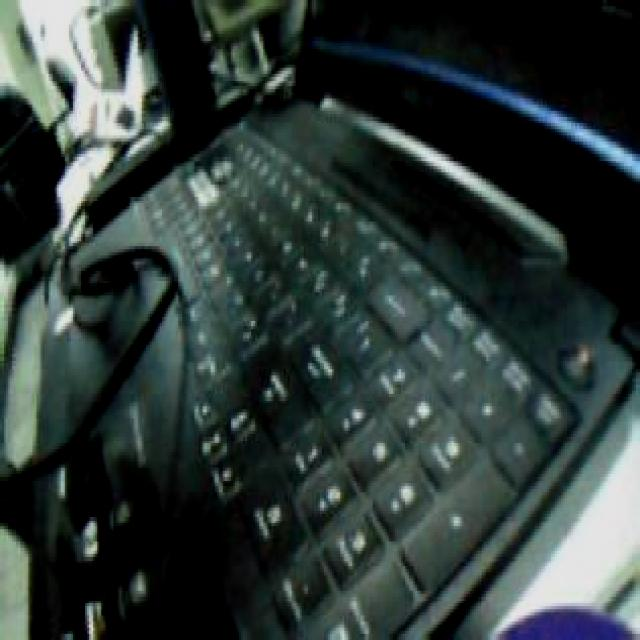BallPurple: (492, 603, 640, 640)
